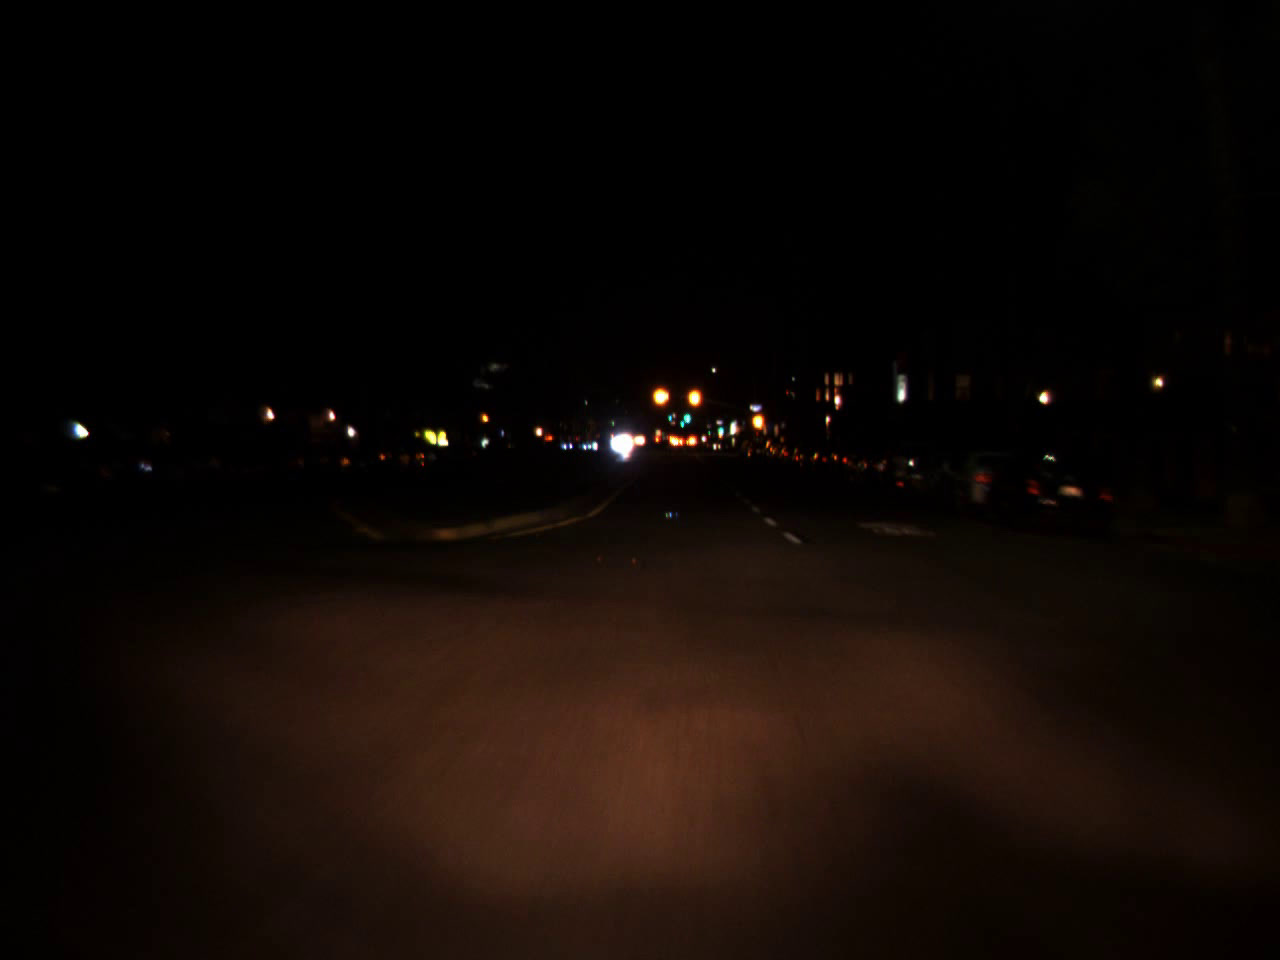go: (681, 406, 691, 424), (714, 419, 724, 435), (678, 413, 685, 431), (666, 408, 673, 423)
warning: (649, 374, 673, 416), (686, 377, 703, 417), (750, 403, 766, 438), (477, 405, 490, 427)
